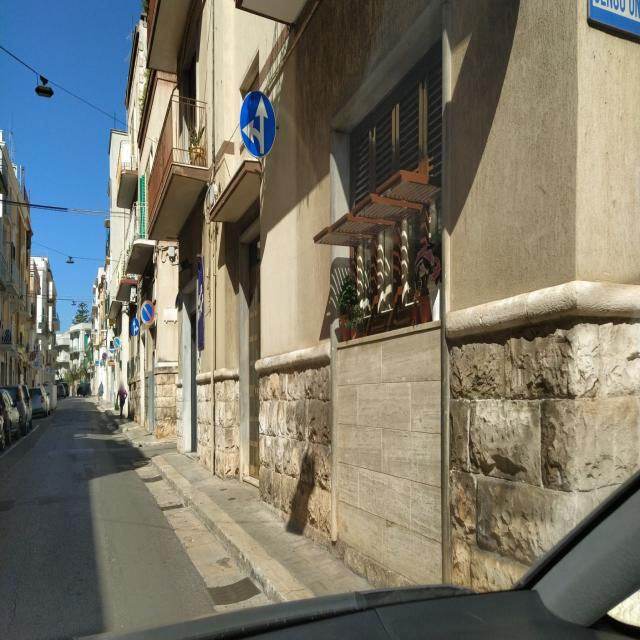forb_stopping: (141, 300, 155, 326)
